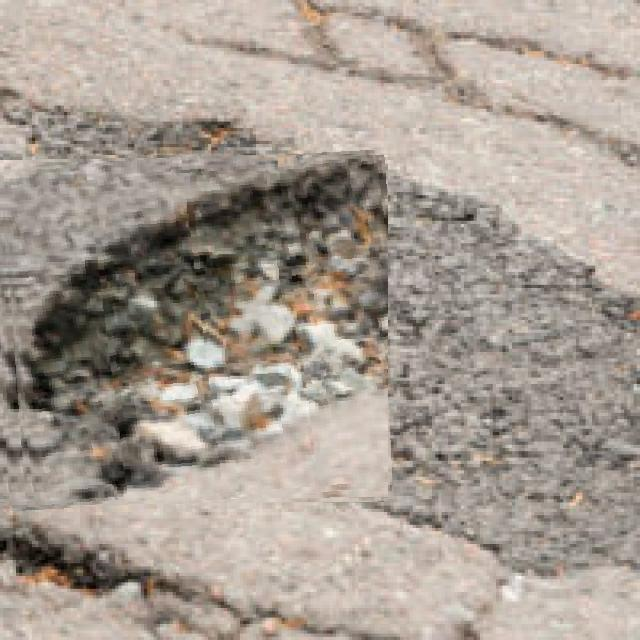Pothole: (0, 155, 388, 506)
